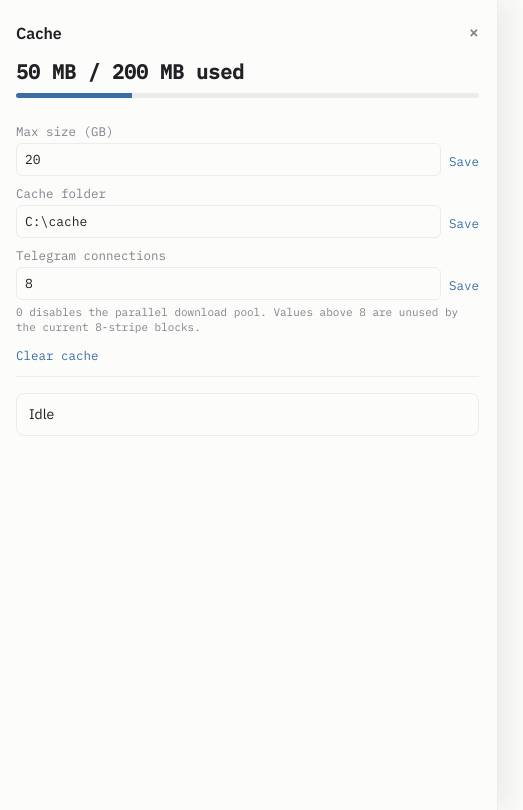
Scenario: CacheDrawer › rejects invalid max size 0
This screenshot has width=523, height=810.
Replace the text in the number field labelled "Max size (GB)" with "0" at point(228, 159), box top-left (16, 142), bottom-right (441, 176)
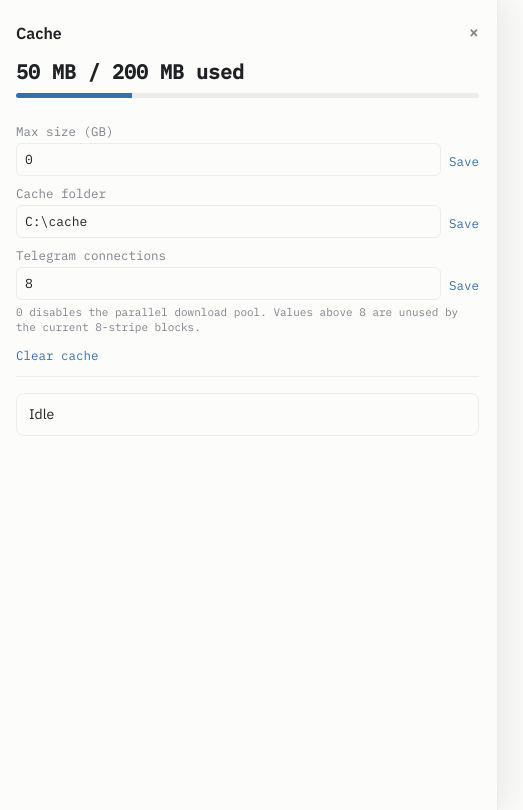
Click the 1st button "Save".
click(464, 164)  # box top-left (449, 152), bottom-right (479, 176)
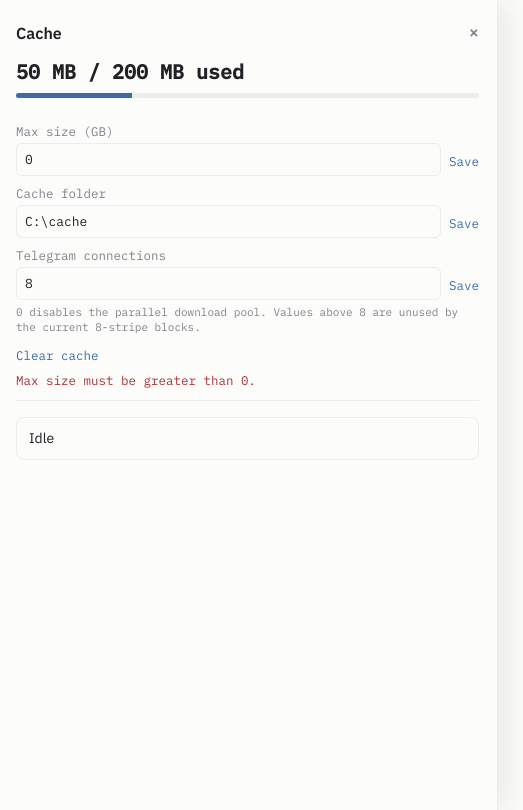
Check: the message shows "greater than 0", box top-left (16, 372), bottom-right (256, 388)
